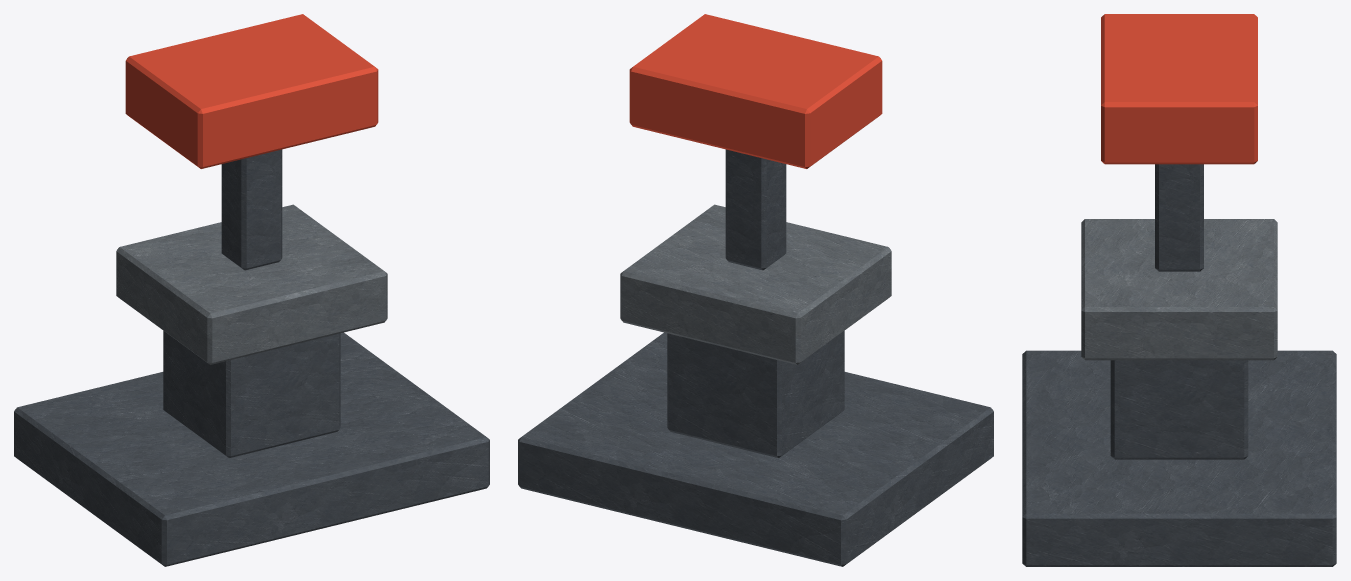
Rendered from rail_switch_stand.gltf.
The picture shows the model from 3 angles, left to right: view 1: azimuth 30°, elevation 25°; view 2: azimuth 150°, elevation 25°; view 3: azimuth 270°, elevation 25°; orthographic projection. The views are drawn at different scales.
Bounding box in the file's own units: 0.8 × 0.96 × 0.64.
Materials: 3 (2 with a texture image).
